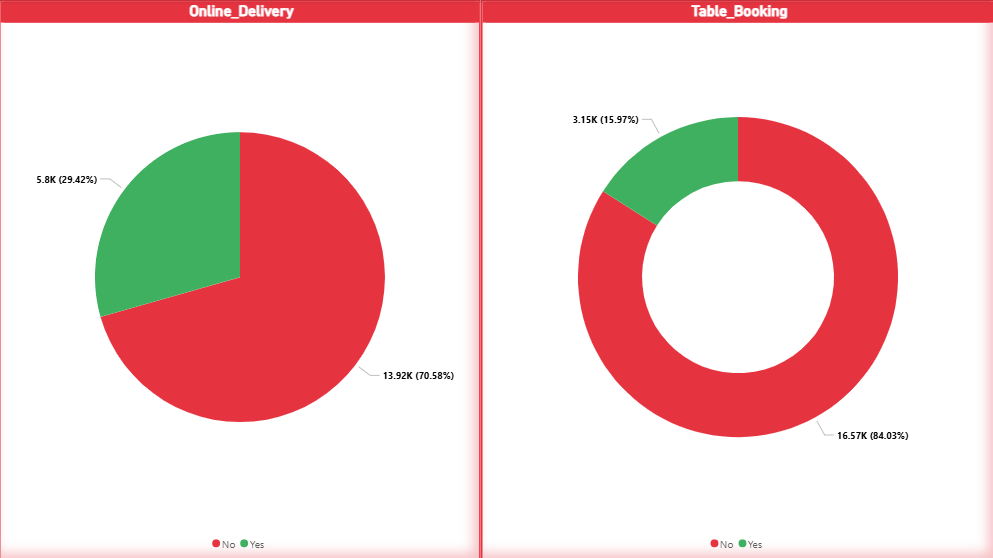

What the dashboard file says about the page in this screenshot:
{"tool":"powerbi","page":{"name":"Page 5","canvas":[1280,720],"ordinal":4},"visuals":[{"type":"pieChart","title":"Online_Delivery","fields":{"Category":["Sheet1.Has_Online_delivery"],"Y":["CountNonNull(Sheet1.Has_Online_delivery)"]},"box":[0,0,619.4,719.7],"z":0},{"type":"donutChart","title":"Table_Booking","fields":{"Category":["Sheet1.Has_Table_booking"],"Y":["CountNonNull(Sheet1.Has_Table_booking)"]},"box":[619.4,0,660.6,719.7],"z":1}]}

Visuals, with their boxes in screenshot pixels (x1, y1, x2, y2), scaled from the page's 1280x720 canvas onto the 993x558 screenshot:
"Online_Delivery" pieChart: [left=0, top=0, right=481, bottom=557]
"Table_Booking" donutChart: [left=481, top=0, right=992, bottom=557]
